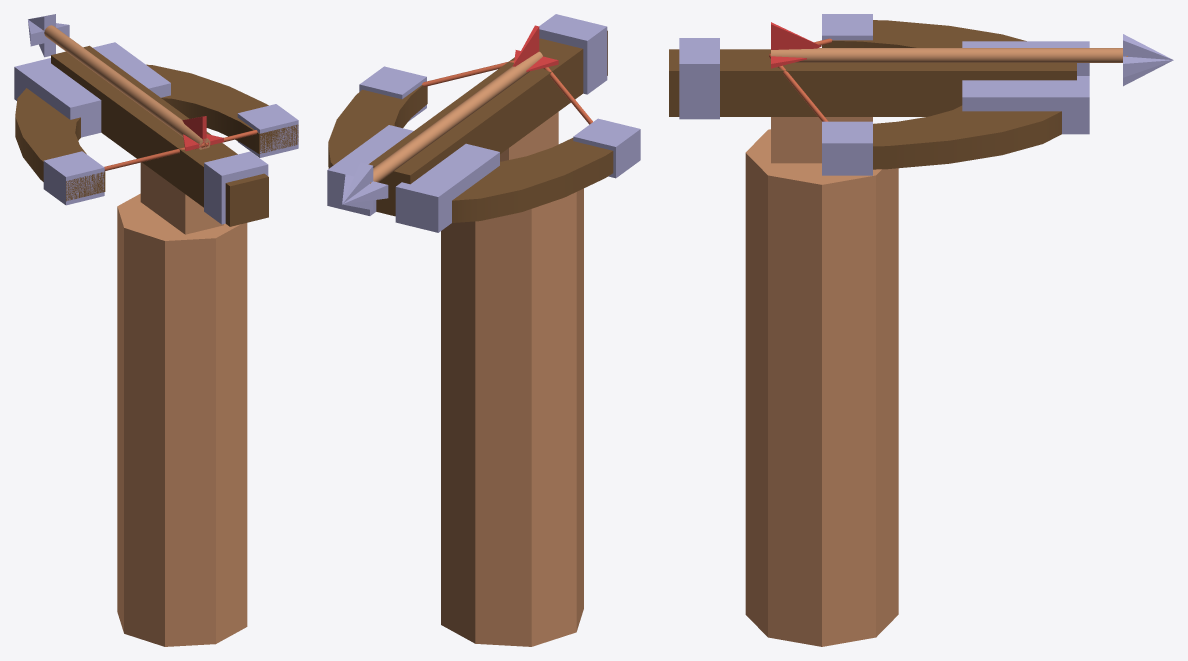
File: CastleTowerTopSecond.fbx
3 views of the same model, side by side, from view 1: azimuth 30°, elevation 25°; view 2: azimuth 150°, elevation 25°; view 3: azimuth 270°, elevation 25° (orthographic). The views are drawn at different scales.
Visible parts, largest first — view 1: mergedBlocks; view 2: mergedBlocks; view 3: mergedBlocks.
Boxes of the visible parts, x1,y1,x2,y2 form: mergedBlocks: [14, 14, 298, 646]; mergedBlocks: [327, 14, 640, 646]; mergedBlocks: [669, 14, 1173, 646].
Size of the model in its own units: 6 by 12.8 by 9.9.
